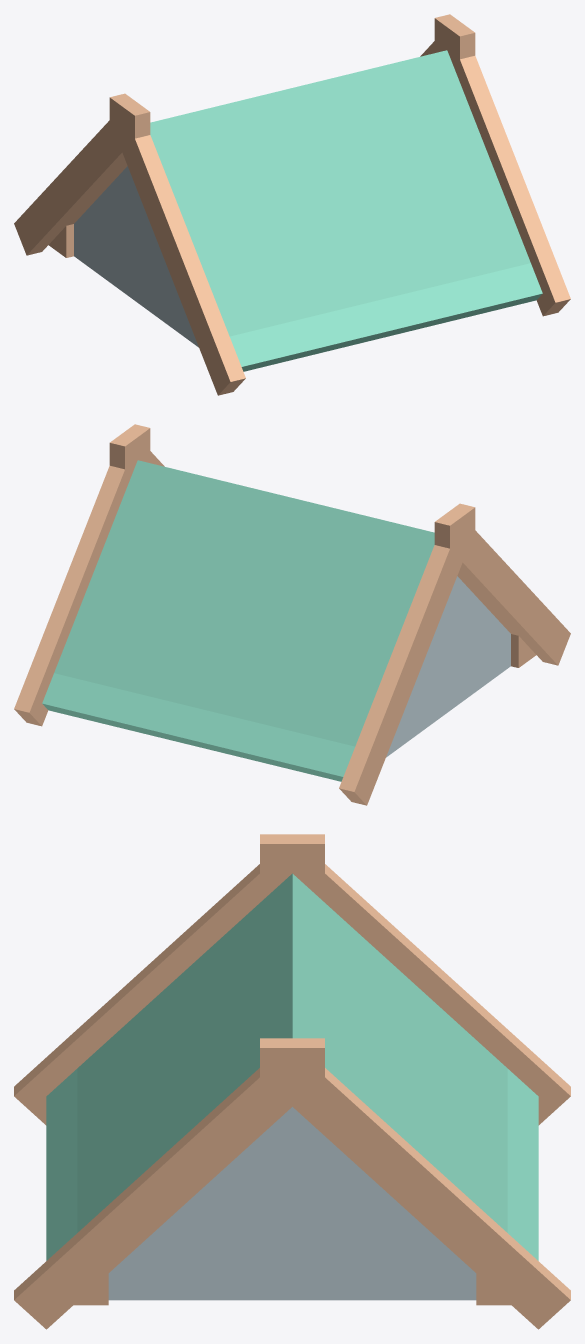
Rendered from roofGableDetail.glb.
3 renders of one model, top to bottom at view 1: azimuth 30°, elevation 25°; view 2: azimuth 150°, elevation 25°; view 3: azimuth 270°, elevation 25°, orthographic. The views are drawn at different scales.
Visible parts, largest first — view 1: roofGableDetail; view 2: roofGableDetail; view 3: roofGableDetail.
Boxes of the visible parts, x1=… form: roofGableDetail: x1=14, y1=14, x2=570, y2=395; roofGableDetail: x1=14, y1=424, x2=570, y2=805; roofGableDetail: x1=14, y1=834, x2=570, y2=1329.
Bounding box in the file's own units: 1.1 × 0.6768 × 1.21.
